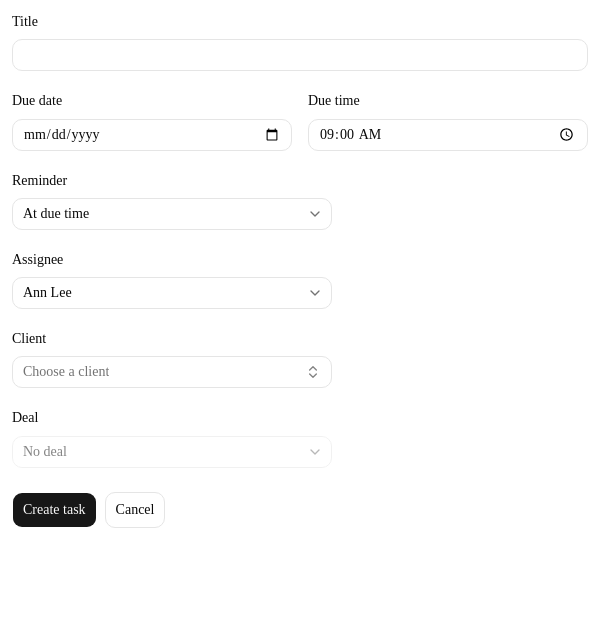
Test: task form › create › should start a custom reminder at the due date and 09:00 when Custom time is chosen
Type "Call Romashka" into the field labelled "Title" at point(300, 55), box [12,39,588,71]
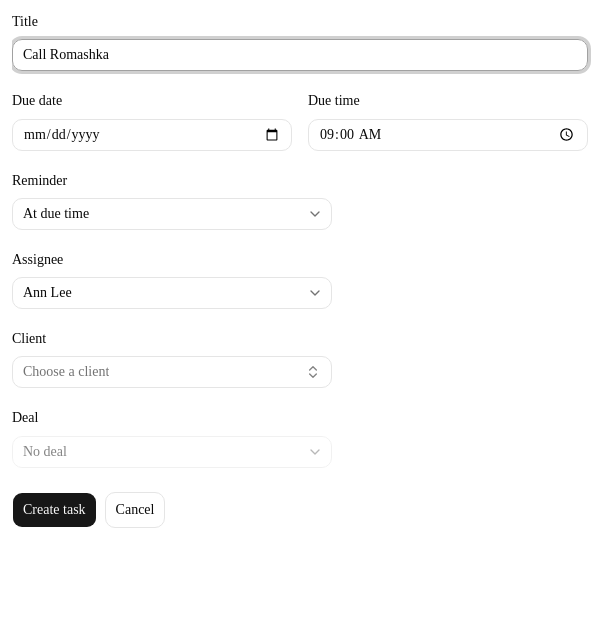
Type "2099-10-15" into the date field labelled "Due date" at point(152, 134), box [12,118,292,150]
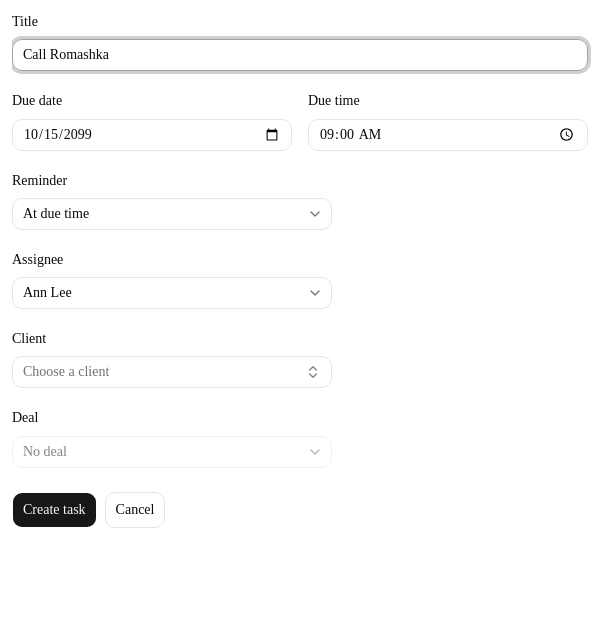
Click the dropdown named "Reminder" at point(56, 213), box [12,198,332,230]
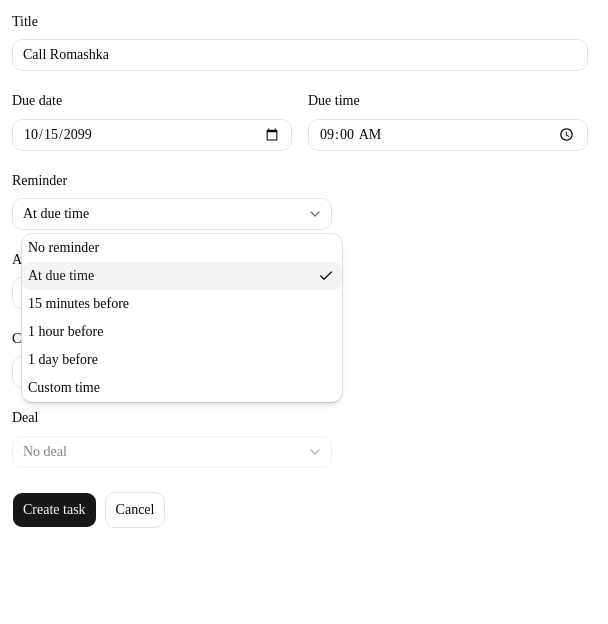
Click the option "Custom time" at point(64, 388), box [28,380,100,395]
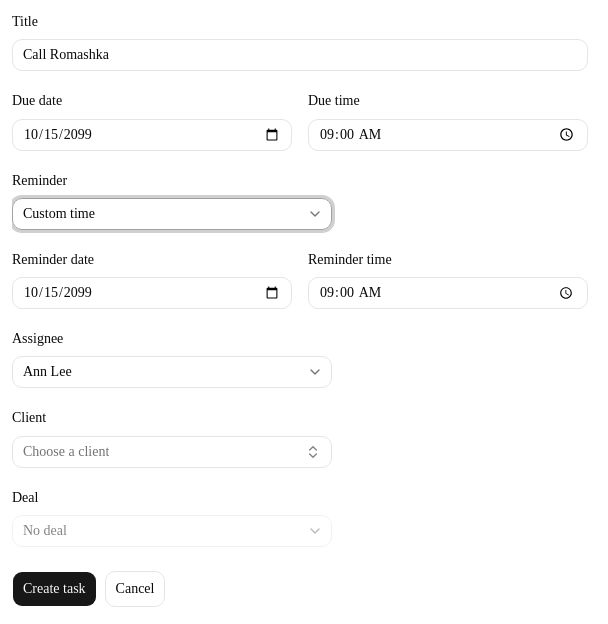
Check: the date field labelled "Reminder date" holds "2099-10-15", box [12,277,292,309]
Check: the time field labelled "Reminder time" holds "09:00", box [308,277,588,309]
